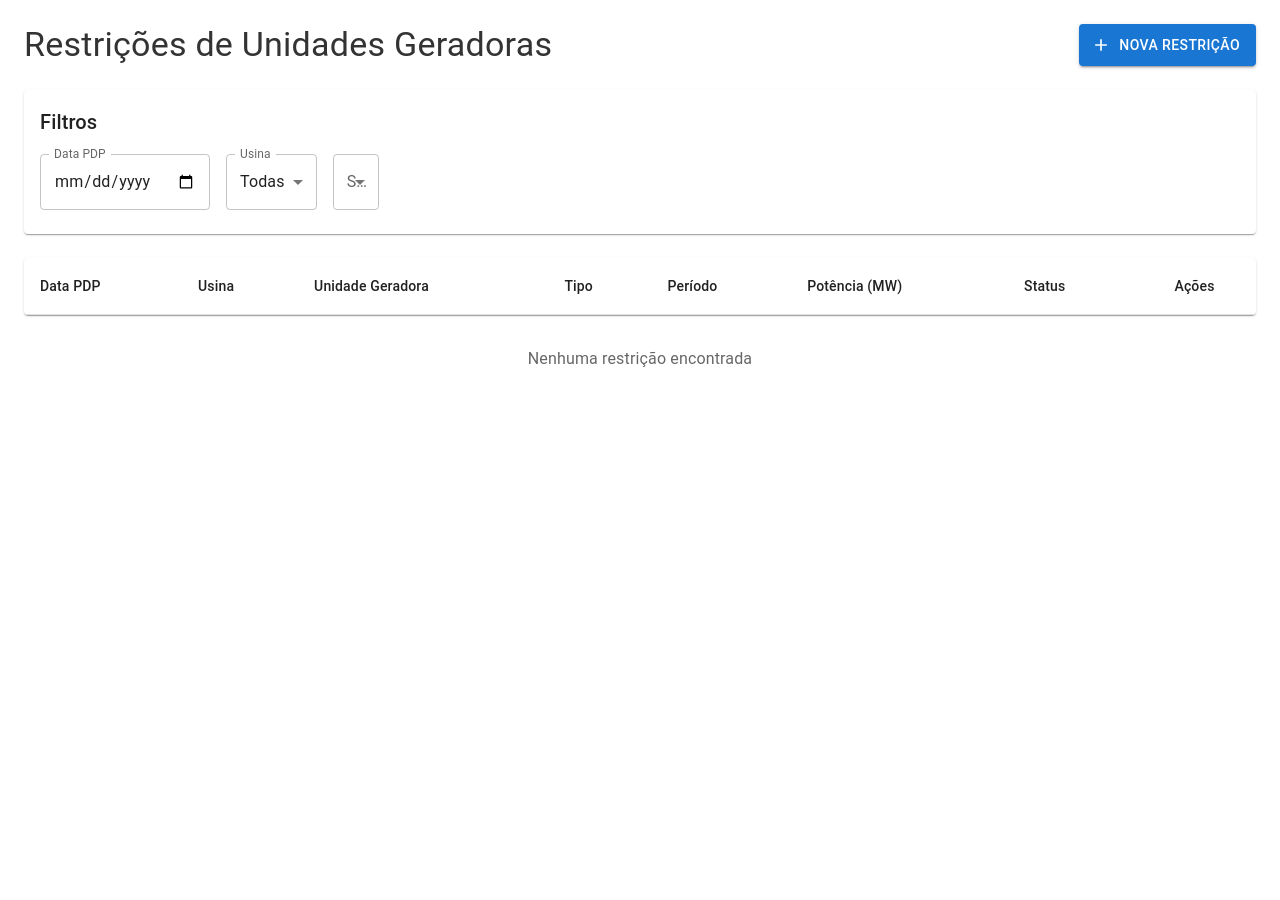
Test: UnitRestriction Component › Dialog de Criação/Edição › deve abrir o dialog ao clicar em Nova Restrição
Click the button "Nova Restrição" at coordinates (1168, 45), box [1079,24,1256,66]
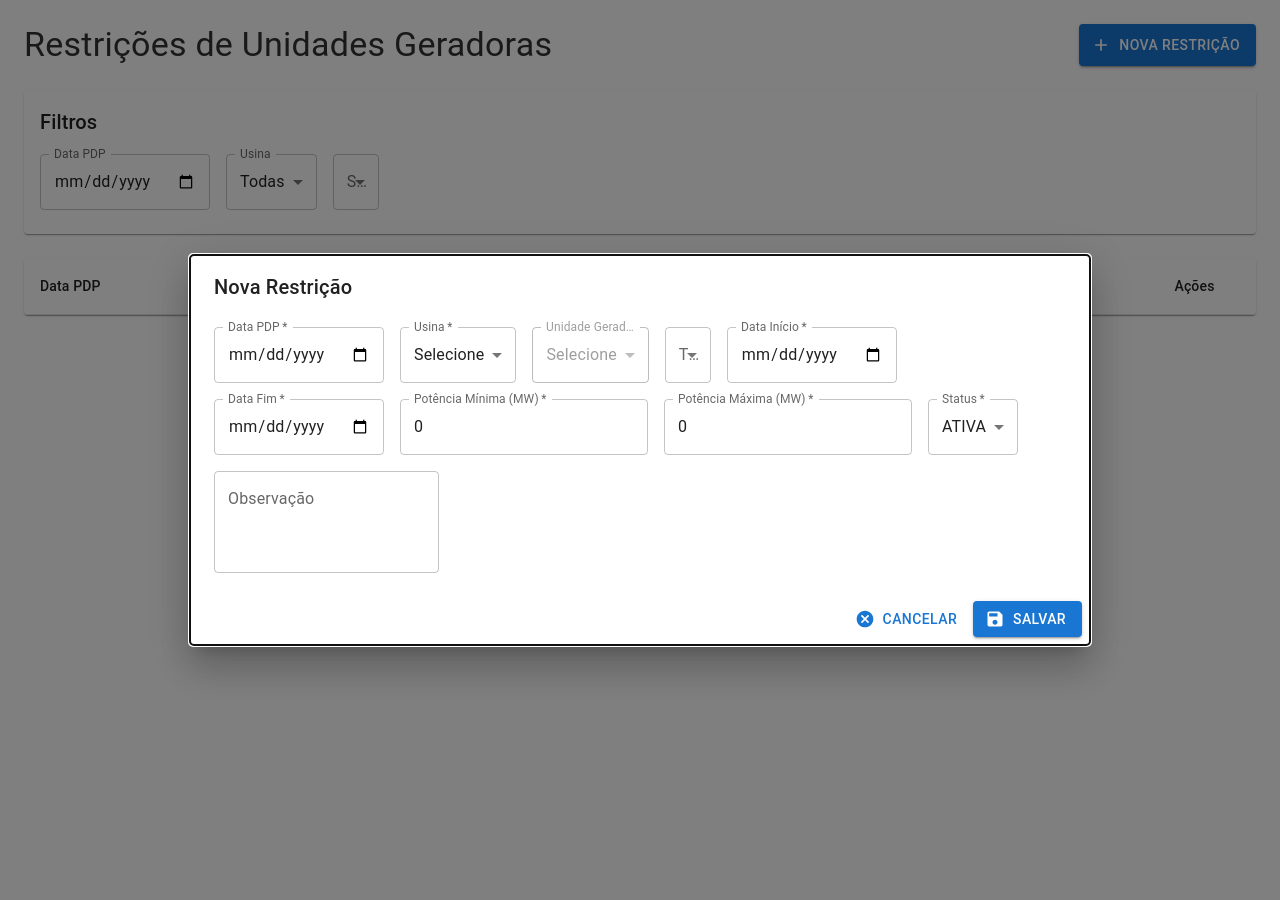
Check: the heading "Nova Restrição" is shown, box [214,275,352,299]
